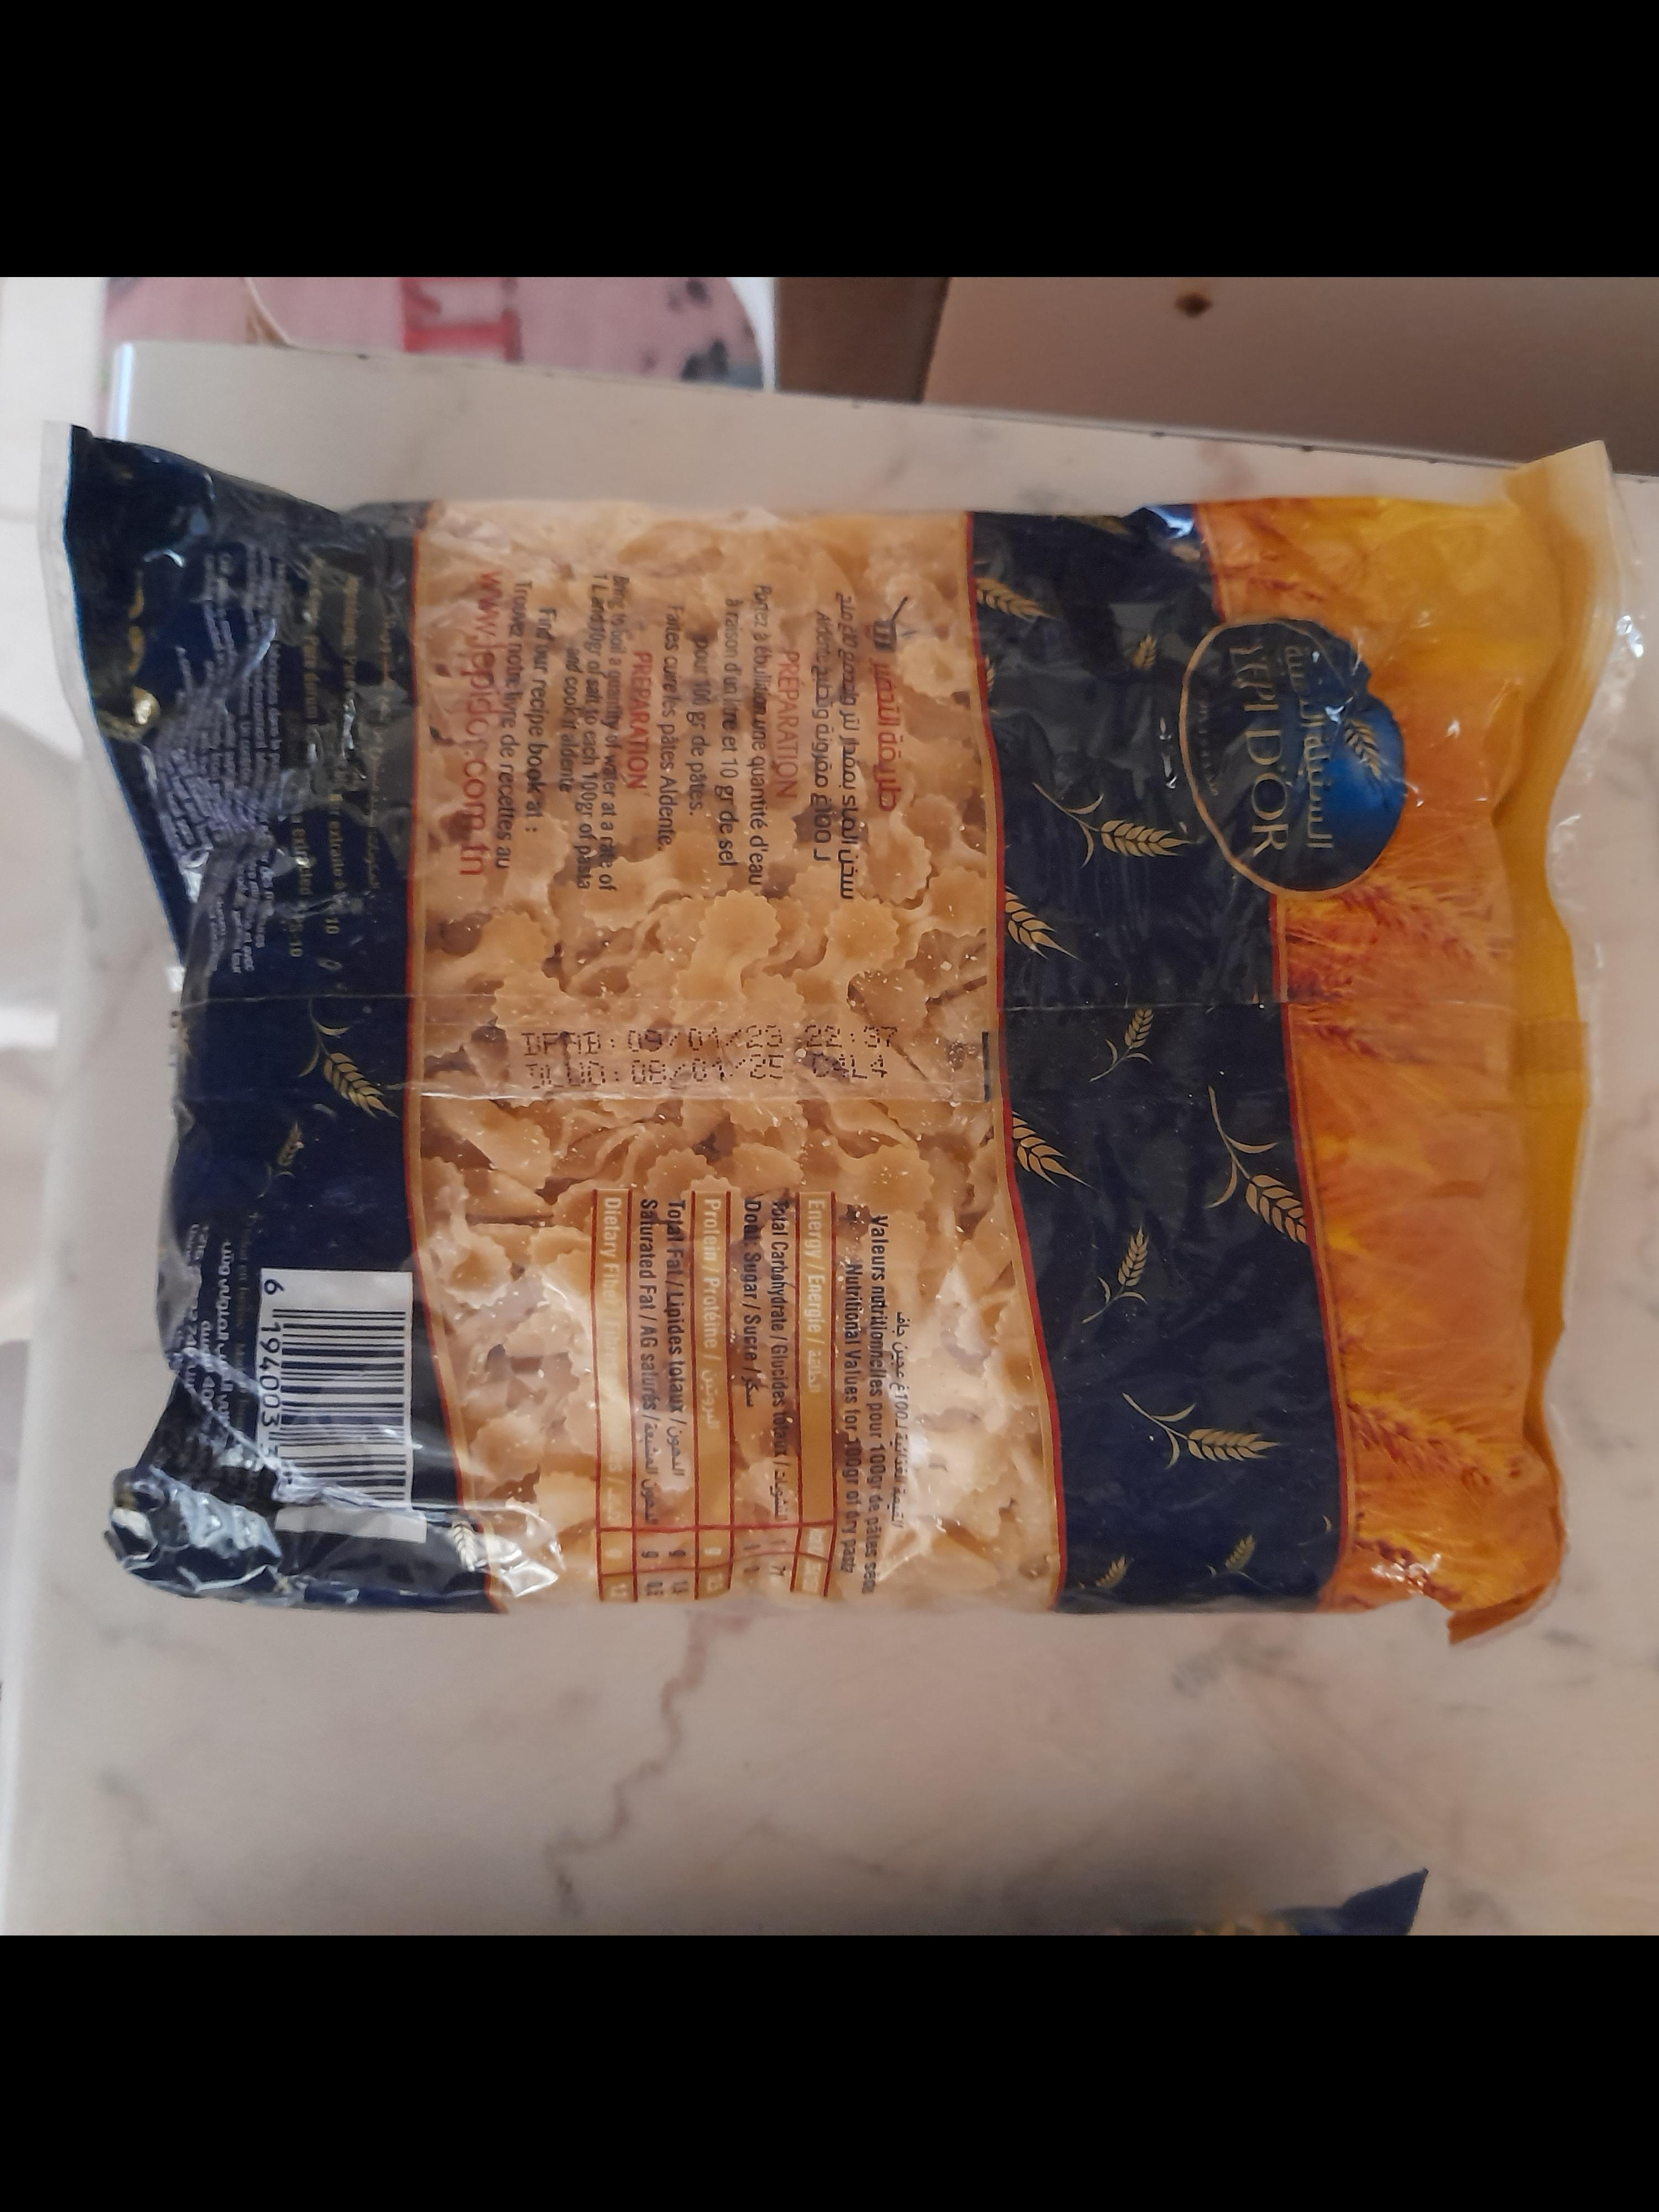Papillon: (1086, 387, 1659, 960)
